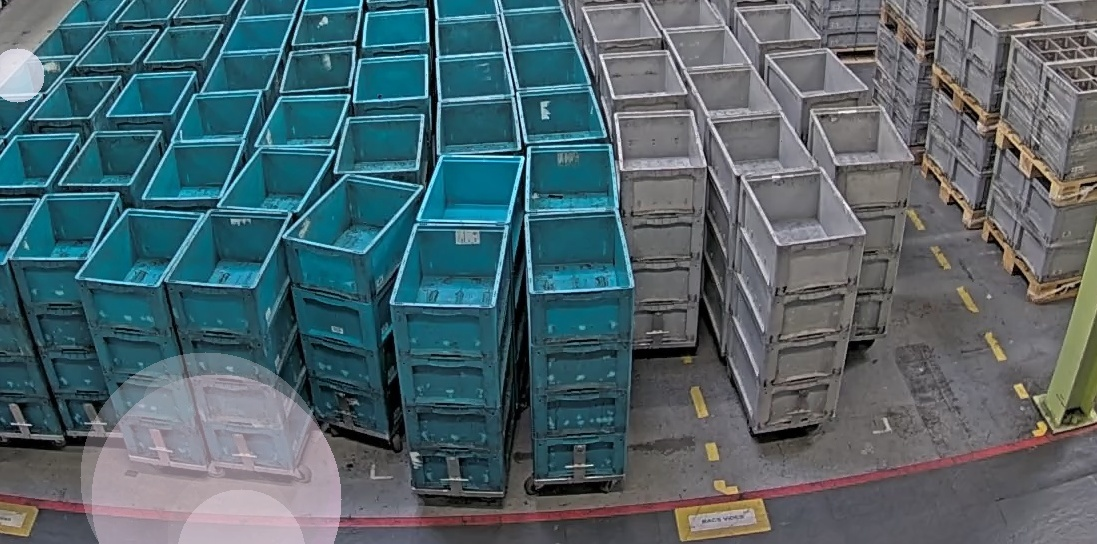4G: (725, 167, 867, 430), (806, 105, 916, 337), (613, 109, 708, 346)
B4: (162, 206, 316, 470), (280, 172, 426, 435), (388, 221, 517, 493), (74, 207, 208, 468), (523, 207, 636, 480), (11, 191, 134, 435)
